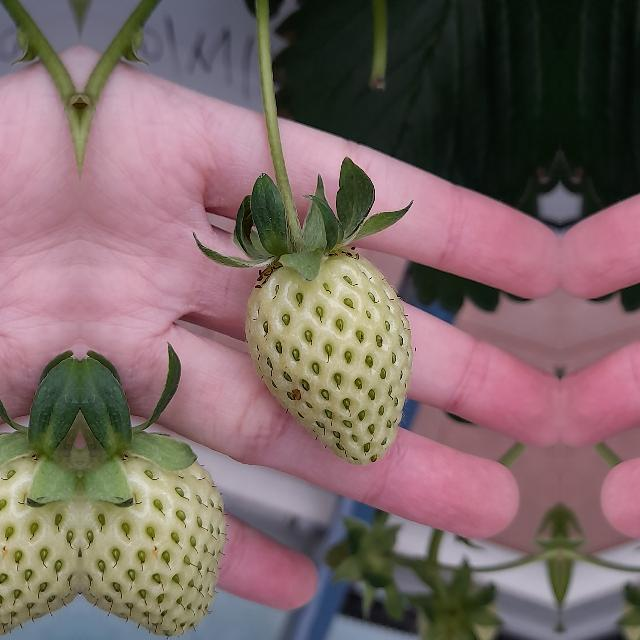Health_25: (245, 248, 413, 464), (82, 438, 226, 636), (0, 437, 77, 636)
